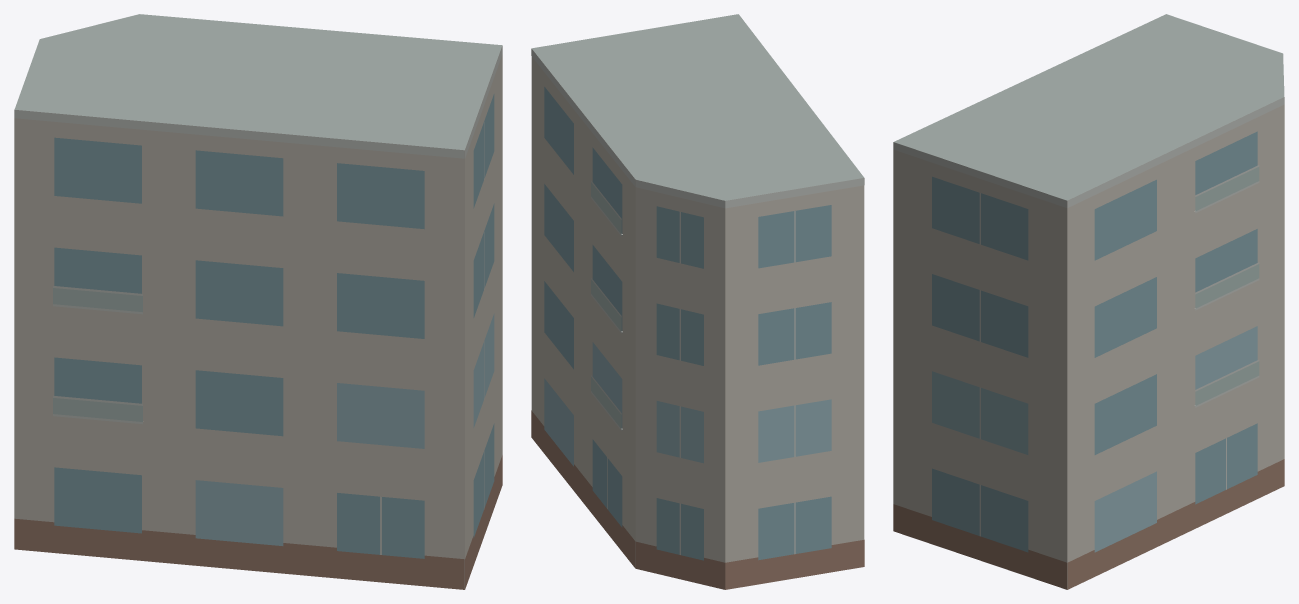
The model's file is survey-upis-32920321.glb.
3 renders of one model, left to right at view 1: azimuth 30°, elevation 25°; view 2: azimuth 150°, elevation 25°; view 3: azimuth 270°, elevation 25°, orthographic. The views are drawn at different scales.
Visible parts, largest first — view 1: survey-upis-32920321.tmp; view 2: survey-upis-32920321.tmp; view 3: survey-upis-32920321.tmp.
Part boxes in pixels (left/top/right/bottom): survey-upis-32920321.tmp: left=14, top=14, right=502, bottom=589; survey-upis-32920321.tmp: left=531, top=14, right=864, bottom=589; survey-upis-32920321.tmp: left=893, top=14, right=1284, bottom=589.
Bounding box in the file's own units: 12.97 × 12.6 × 11.49.
